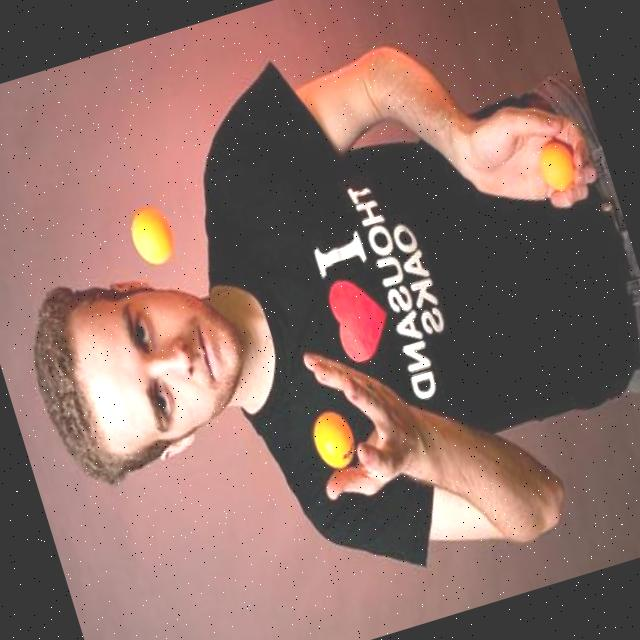ping-pong-ball: (120, 200, 180, 275), (303, 402, 362, 476), (529, 133, 584, 199)
